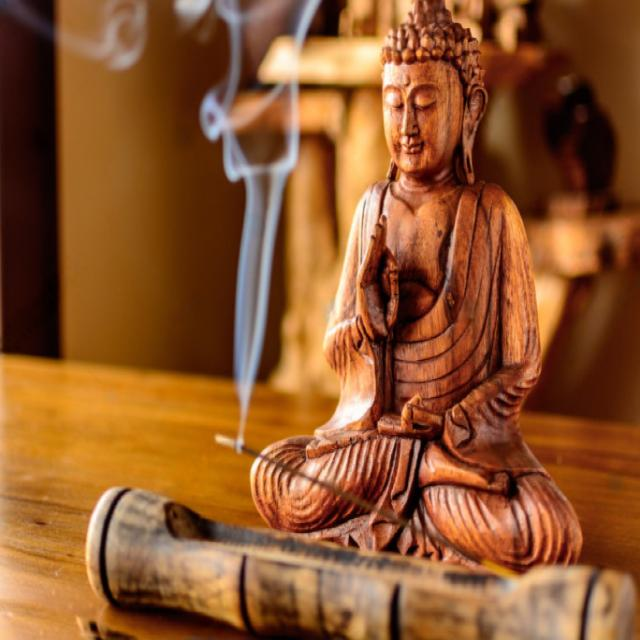Agarbatti: (200, 424, 530, 580)
